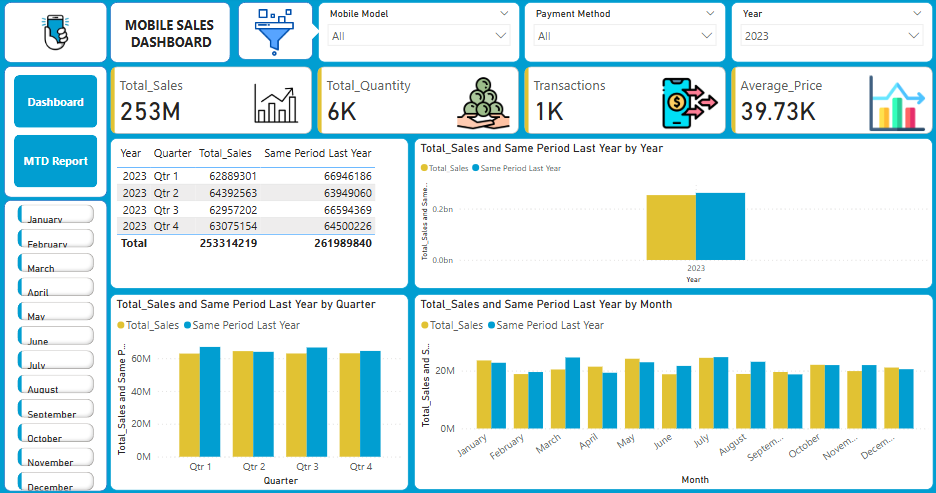

This screenshot's page, from the dashboard's own definition file:
{"tool":"powerbi","page":{"name":"Same Period Last Year","canvas":[1355,720],"ordinal":2},"visuals":[{"type":"shape","box":[8.7,7.3,148.6,87.4],"z":0},{"type":"image","box":[45.2,11.7,75.8,78.7],"z":1000},{"type":"shape","box":[8.7,99.1,148.6,189.4],"z":2000},{"type":"cardVisual","fields":{"Data":["Mobile Sales data.Total_Sales","Mobile Sales data.Total_Quantity","Mobile Sales data.Transactions","Mobile Sales data.Average_Price"]},"box":[157.4,94.7,1196,107.8],"z":3000},{"type":"slicer","fields":{"Values":["Mobile Sales data.Mobile Model"]},"box":[460.4,7.3,291.4,87.4],"z":4000},{"type":"slicer","fields":{"Values":["Mobile Sales data.Payment Method"]},"box":[757.6,7.3,291.4,87.4],"z":5000},{"type":"slicer","fields":{"Values":["Custom_Calender.Date.Variation.Date Hierarchy.Year"]},"box":[1054.9,7.3,291.4,87.4],"z":6000},{"type":"shape","box":[345.3,7.3,107.8,83],"z":7000},{"type":"image","box":[303.1,11.7,190.9,78.7],"z":8000},{"type":"shape","box":[426.9,35,37.9,29.1],"z":9000},{"type":"shape","box":[161.7,7.3,173.4,87.4],"z":10000},{"type":"textbox","box":[174.8,17.5,150.1,67],"z":11000},{"type":"shape","box":[8.7,292.9,148.6,419.6],"z":12000},{"type":"advancedSlicerVisual","fields":{"Values":["Custom_Calender.Date.Variation.Date Hierarchy.Month"]},"box":[23.3,293.3,120,426.7],"z":13000},{"type":"tableEx","fields":{"Values":["Custom_Calender.Date.Variation.Date Hierarchy.Year","Custom_Calender.Date.Variation.Date Hierarchy.Quarter","Mobile Sales data.Total_Sales","Mobile Sales data.Same Period Last Year"]},"box":[161.7,203.3,430,216.7],"z":14000},{"type":"clusteredColumnChart","fields":{"Category":["Custom_Calender.Date.Variation.Date Hierarchy.Year","Custom_Calender.Date.Variation.Date Hierarchy.Quarter"],"Y":["Mobile Sales data.Total_Sales","Mobile Sales data.Same Period Last Year"]},"box":[598.3,203.3,746.7,216.7],"z":15000},{"type":"clusteredColumnChart","fields":{"Y":["Mobile Sales data.Total_Sales","Mobile Sales data.Same Period Last Year"],"Category":["Custom_Calender.Date.Variation.Date Hierarchy.Month","Custom_Calender.Date.Variation.Date Hierarchy.Day"]},"box":[598.3,428.3,748.3,281.7],"z":16000},{"type":"clusteredColumnChart","fields":{"Category":["Custom_Calender.Date.Variation.Date Hierarchy.Year","Custom_Calender.Date.Variation.Date Hierarchy.Quarter"],"Y":["Mobile Sales data.Total_Sales","Mobile Sales data.Same Period Last Year"]},"box":[161.7,428.3,430,283.3],"z":17000},{"type":"pageNavigator","box":[23.3,111.7,120,163.3],"z":18000}]}

Visuals, with their boxes in screenshot pixels (x1, y1, x2, y2), scaled from the page's 1355x720 canvas onto the 936x493 screenshot:
shape: {"left": 6, "top": 5, "right": 109, "bottom": 65}
image: {"left": 31, "top": 8, "right": 84, "bottom": 62}
shape: {"left": 6, "top": 68, "right": 109, "bottom": 198}
cardVisual - Mobile Sales data.Total_Sales x Mobile Sales data.Total_Quantity: {"left": 109, "top": 65, "right": 935, "bottom": 139}
slicer - Mobile Sales data.Mobile Model: {"left": 318, "top": 5, "right": 519, "bottom": 65}
slicer - Mobile Sales data.Payment Method: {"left": 523, "top": 5, "right": 725, "bottom": 65}
slicer - Custom_Calender.Date.Variation.Date Hierarchy.Year: {"left": 729, "top": 5, "right": 930, "bottom": 65}
shape: {"left": 239, "top": 5, "right": 313, "bottom": 62}
image: {"left": 209, "top": 8, "right": 341, "bottom": 62}
shape: {"left": 295, "top": 24, "right": 321, "bottom": 44}
shape: {"left": 112, "top": 5, "right": 231, "bottom": 65}
textbox: {"left": 121, "top": 12, "right": 224, "bottom": 58}
shape: {"left": 6, "top": 201, "right": 109, "bottom": 488}
advancedSlicerVisual - Custom_Calender.Date.Variation.Date Hierarchy.Month: {"left": 16, "top": 201, "right": 99, "bottom": 492}
tableEx - Custom_Calender.Date.Variation.Date Hierarchy.Year x Custom_Calender.Date.Variation.Date Hierarchy.Quarter: {"left": 112, "top": 139, "right": 409, "bottom": 288}
clusteredColumnChart - Custom_Calender.Date.Variation.Date Hierarchy.Year x Custom_Calender.Date.Variation.Date Hierarchy.Quarter: {"left": 413, "top": 139, "right": 929, "bottom": 288}
clusteredColumnChart - Mobile Sales data.Total_Sales x Mobile Sales data.Same Period Last Year: {"left": 413, "top": 293, "right": 930, "bottom": 486}
clusteredColumnChart - Custom_Calender.Date.Variation.Date Hierarchy.Year x Custom_Calender.Date.Variation.Date Hierarchy.Quarter: {"left": 112, "top": 293, "right": 409, "bottom": 487}
pageNavigator: {"left": 16, "top": 76, "right": 99, "bottom": 188}
